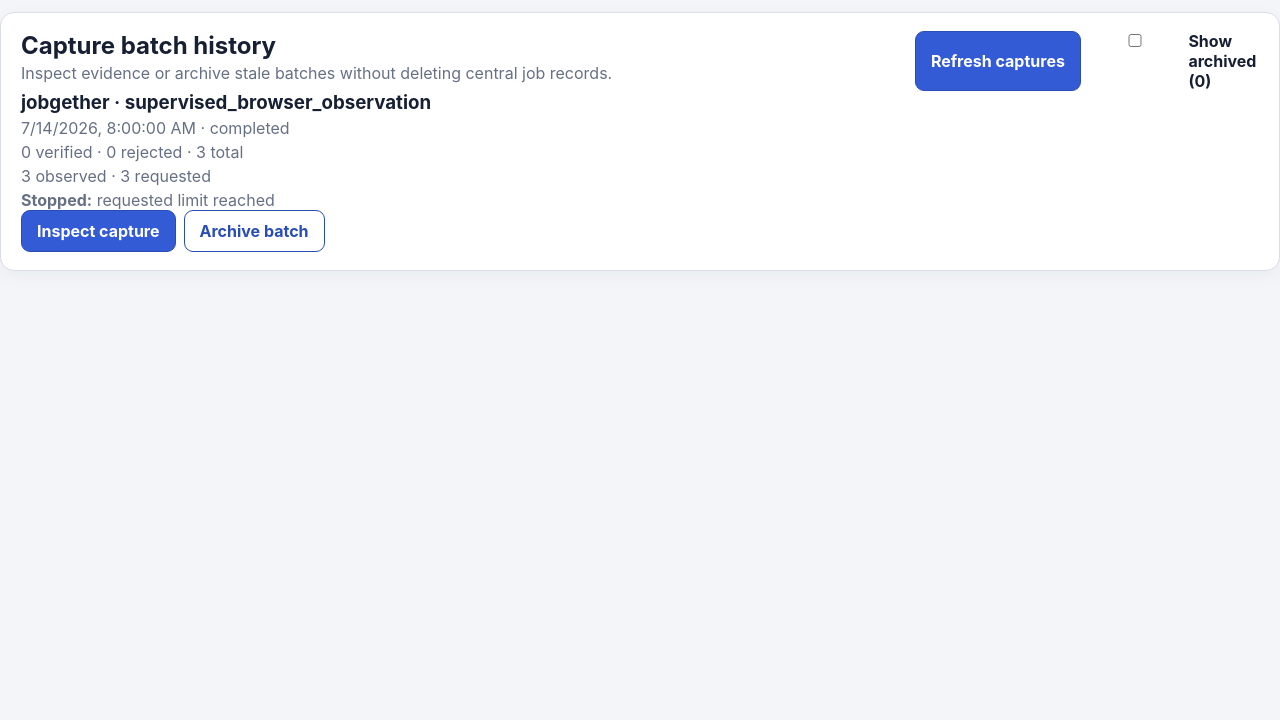
CaptureHistory › imports confirmed supervised evidence via the existing captures endpoint
Click the button "Inspect capture". click: (98, 231)
box: [21,210,176,252]
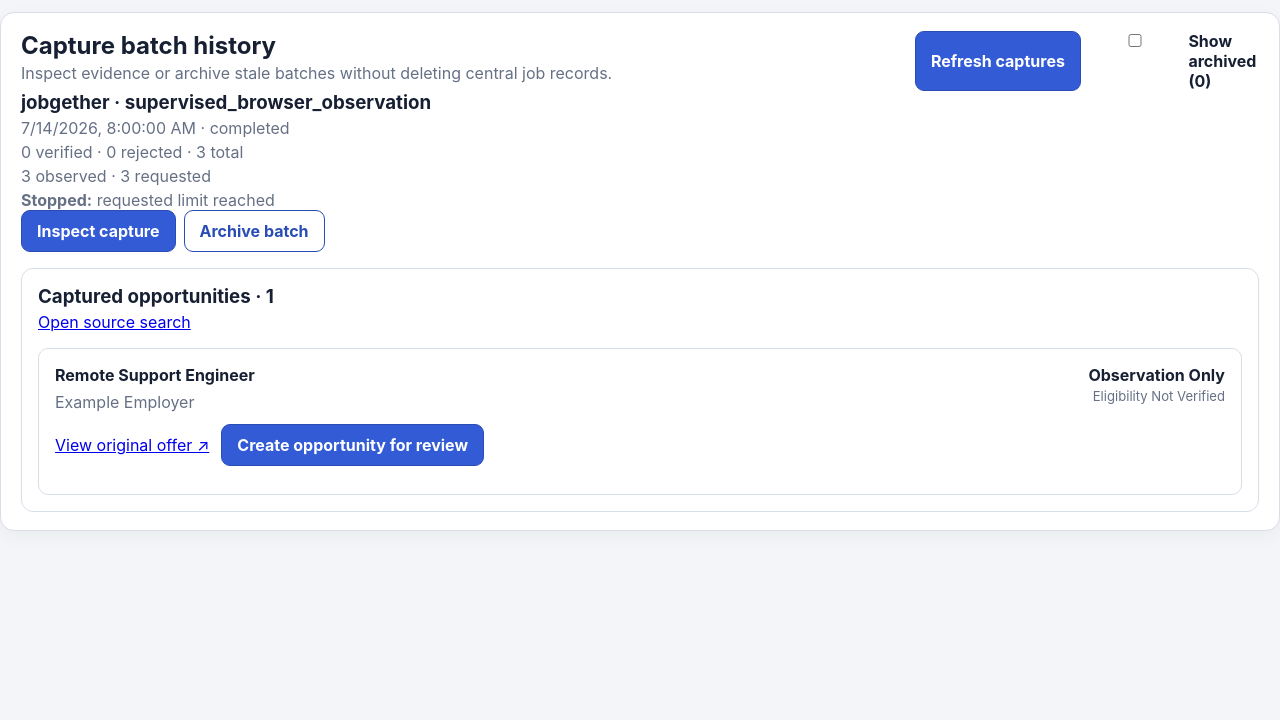
Click the button "Create opportunity for review". click: (353, 445)
box: [221,424,484,466]
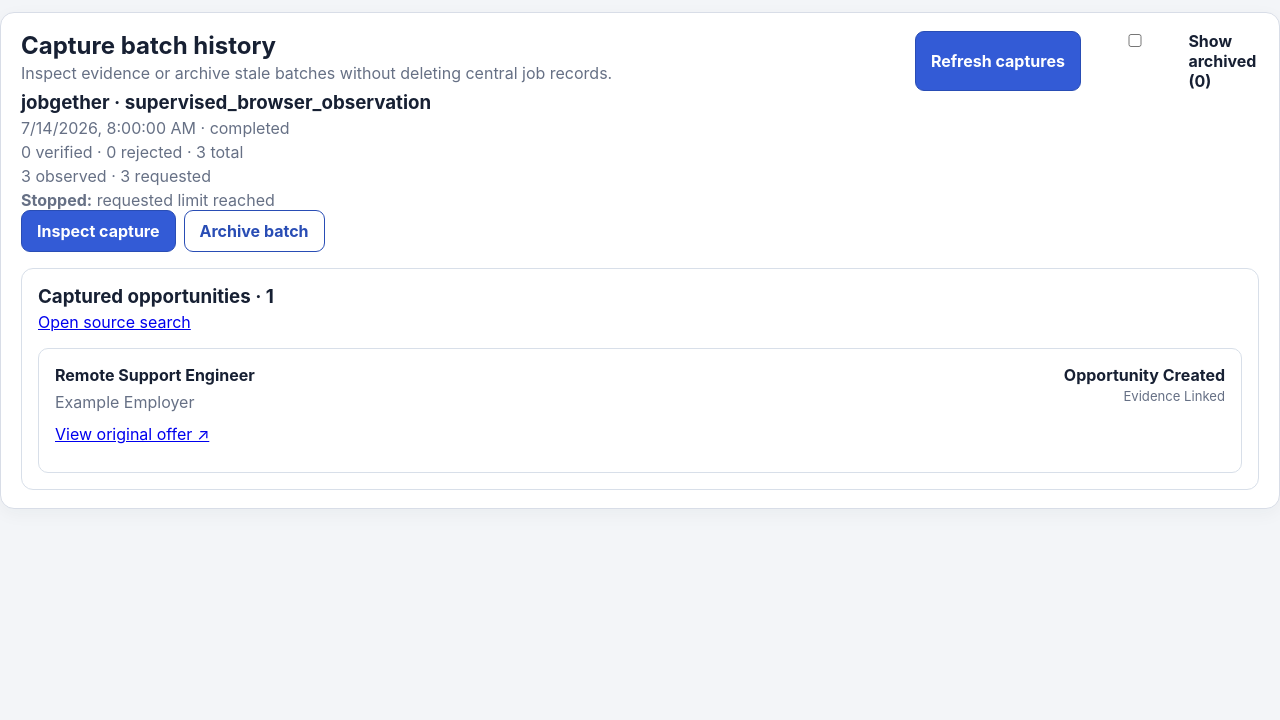
Now the button "Create opportunity for review" is gone
